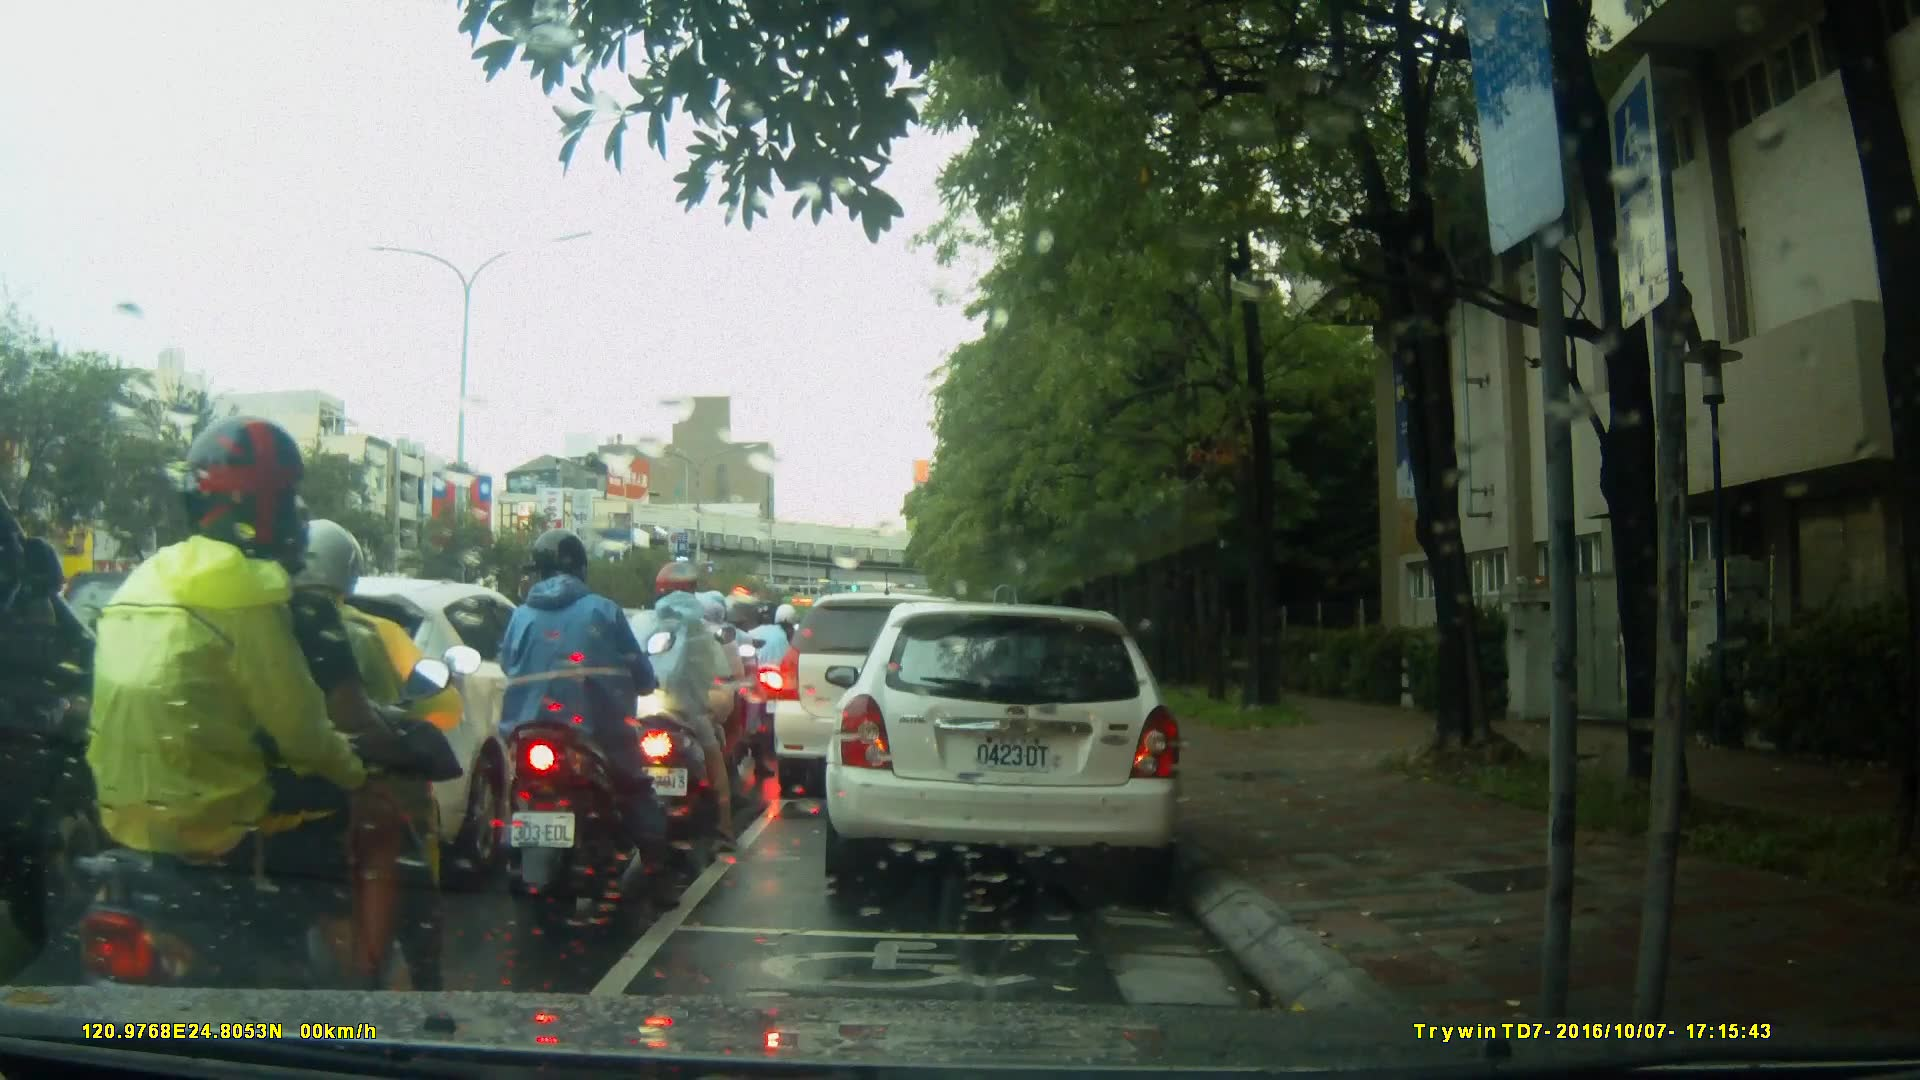rider: (72, 426, 464, 1043), (233, 523, 478, 1006), (499, 529, 682, 909), (614, 560, 737, 842), (659, 586, 761, 820), (739, 599, 798, 749)
vehicle: (194, 576, 605, 859), (822, 604, 1188, 883), (774, 595, 995, 802)
